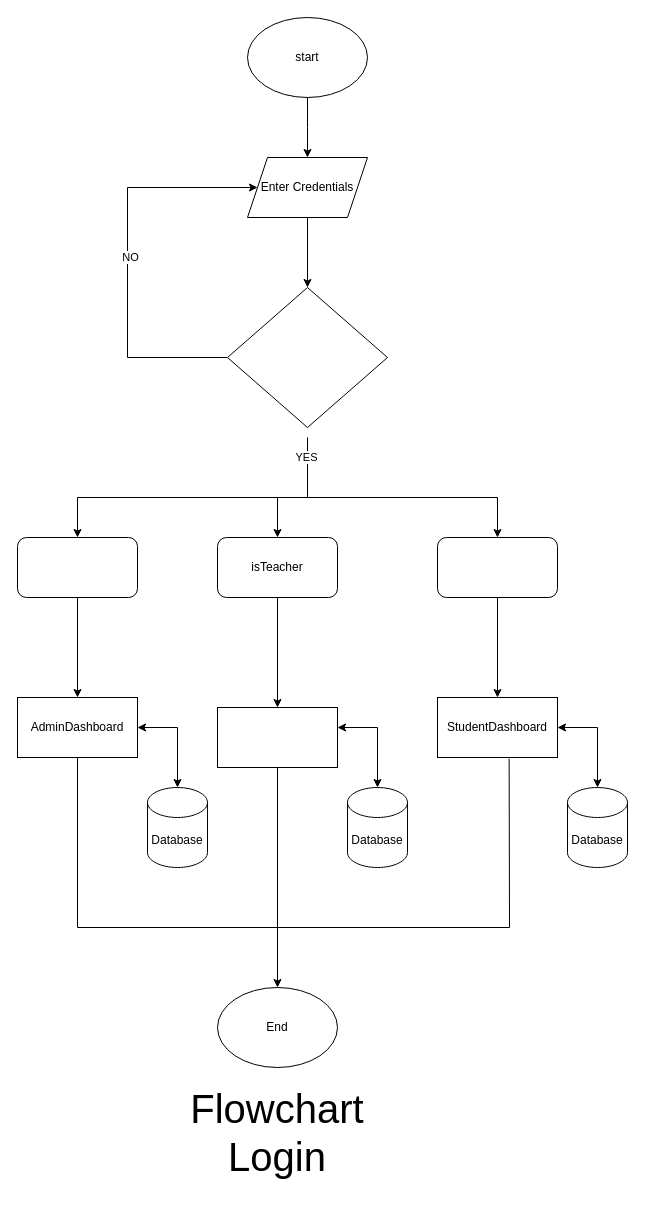
Image size: 645x1215. Some labels were removed from this diagram. Here are the shapes that lost their labels. From the top down, the box of each, then its label:
(226, 286, 388, 428): Validate?
(16, 536, 138, 598): isAdmin
(436, 536, 558, 598): isStudent
(216, 706, 338, 768): TeacherDashboard
